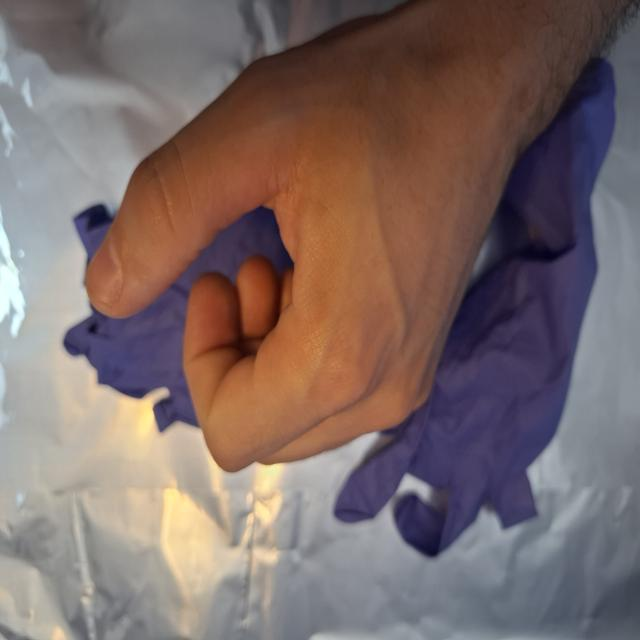glove_off: (83, 2, 550, 475)
